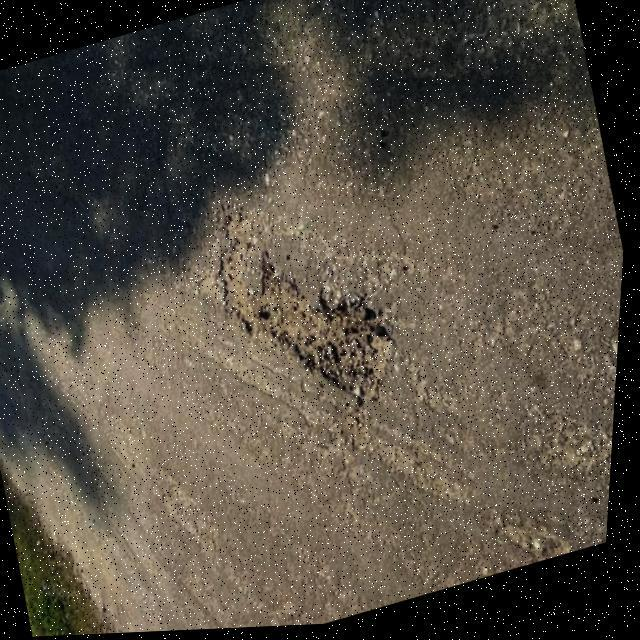pothole: (186, 165, 427, 448)
